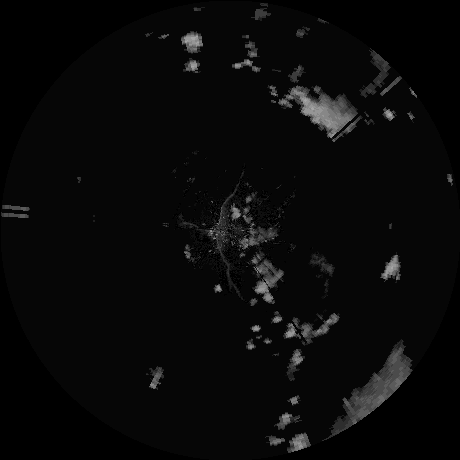frontgust: (216, 184, 239, 297)
